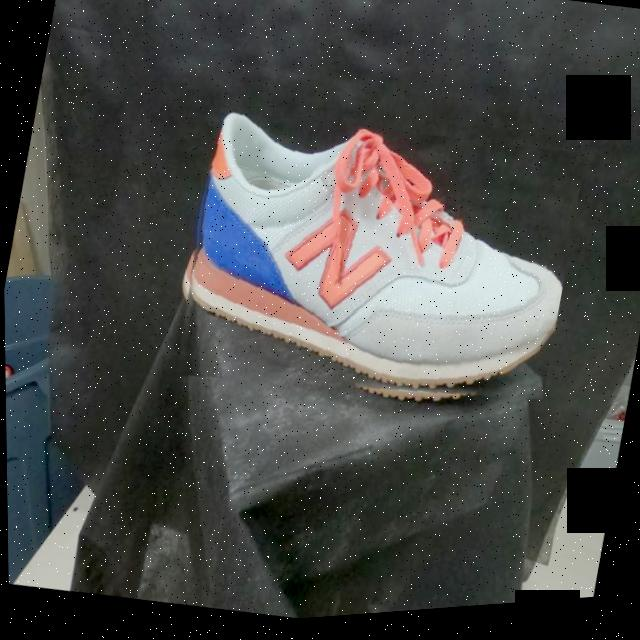shoe: (162, 92, 589, 449)
